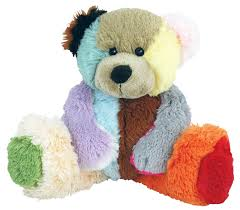teddy: (2, 7, 238, 204)
